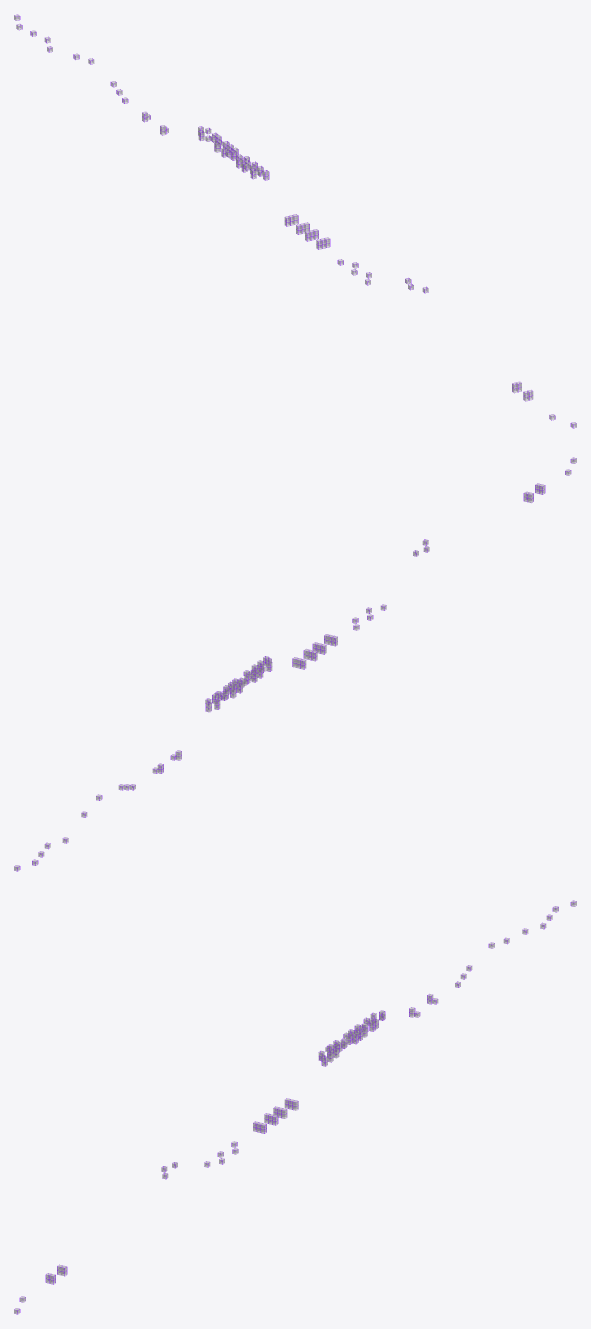
File: Wall Lvl12.fbx
3 views of the same model, one above another, from view 1: azimuth 30°, elevation 25°; view 2: azimuth 150°, elevation 25°; view 3: azimuth 330°, elevation 25° (orthographic).
Size of the model in its own units: 600 by 1500 by 49400.
